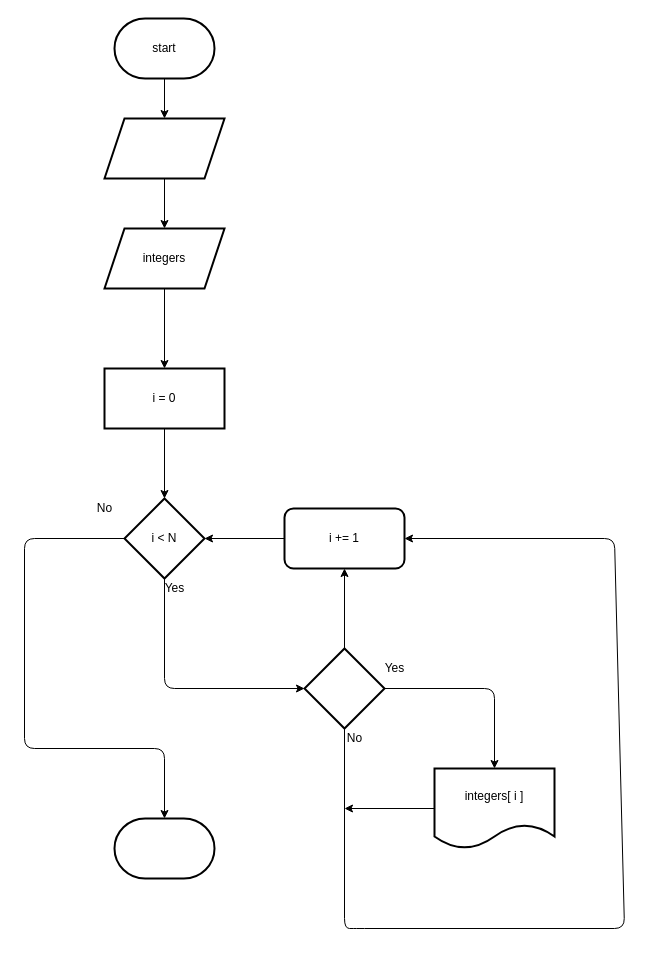
The diagram is 650 pixels wide and 954 high, and some of its shapes have lost their labels. The shapes that lost their labels are listed below. From the top down, each one's box as (x1, y1, x2, y2) in pixels, then its label:
(103, 117, 225, 179): N, X
(303, 647, 385, 729): integers[i] < X
(113, 817, 215, 879): finish
